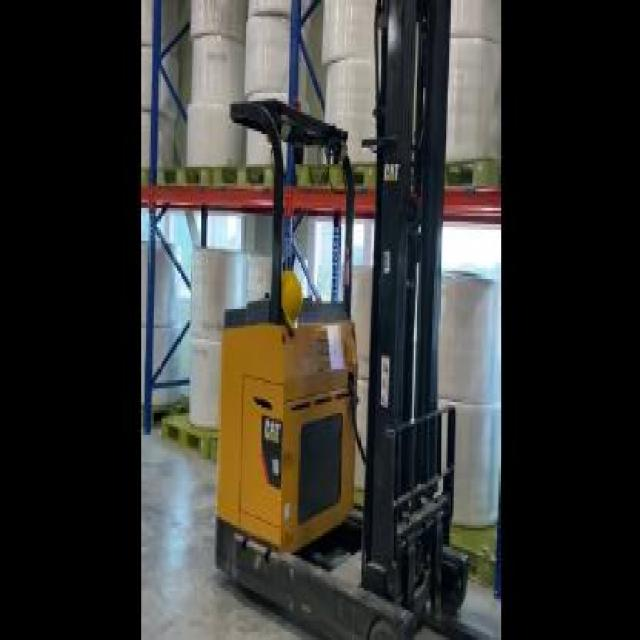robot: (220, 3, 482, 637)
white_roll: (422, 268, 498, 555), (312, 3, 403, 191), (182, 235, 249, 465), (423, 0, 500, 191), (245, 3, 309, 175), (189, 3, 243, 186), (138, 2, 174, 188)
